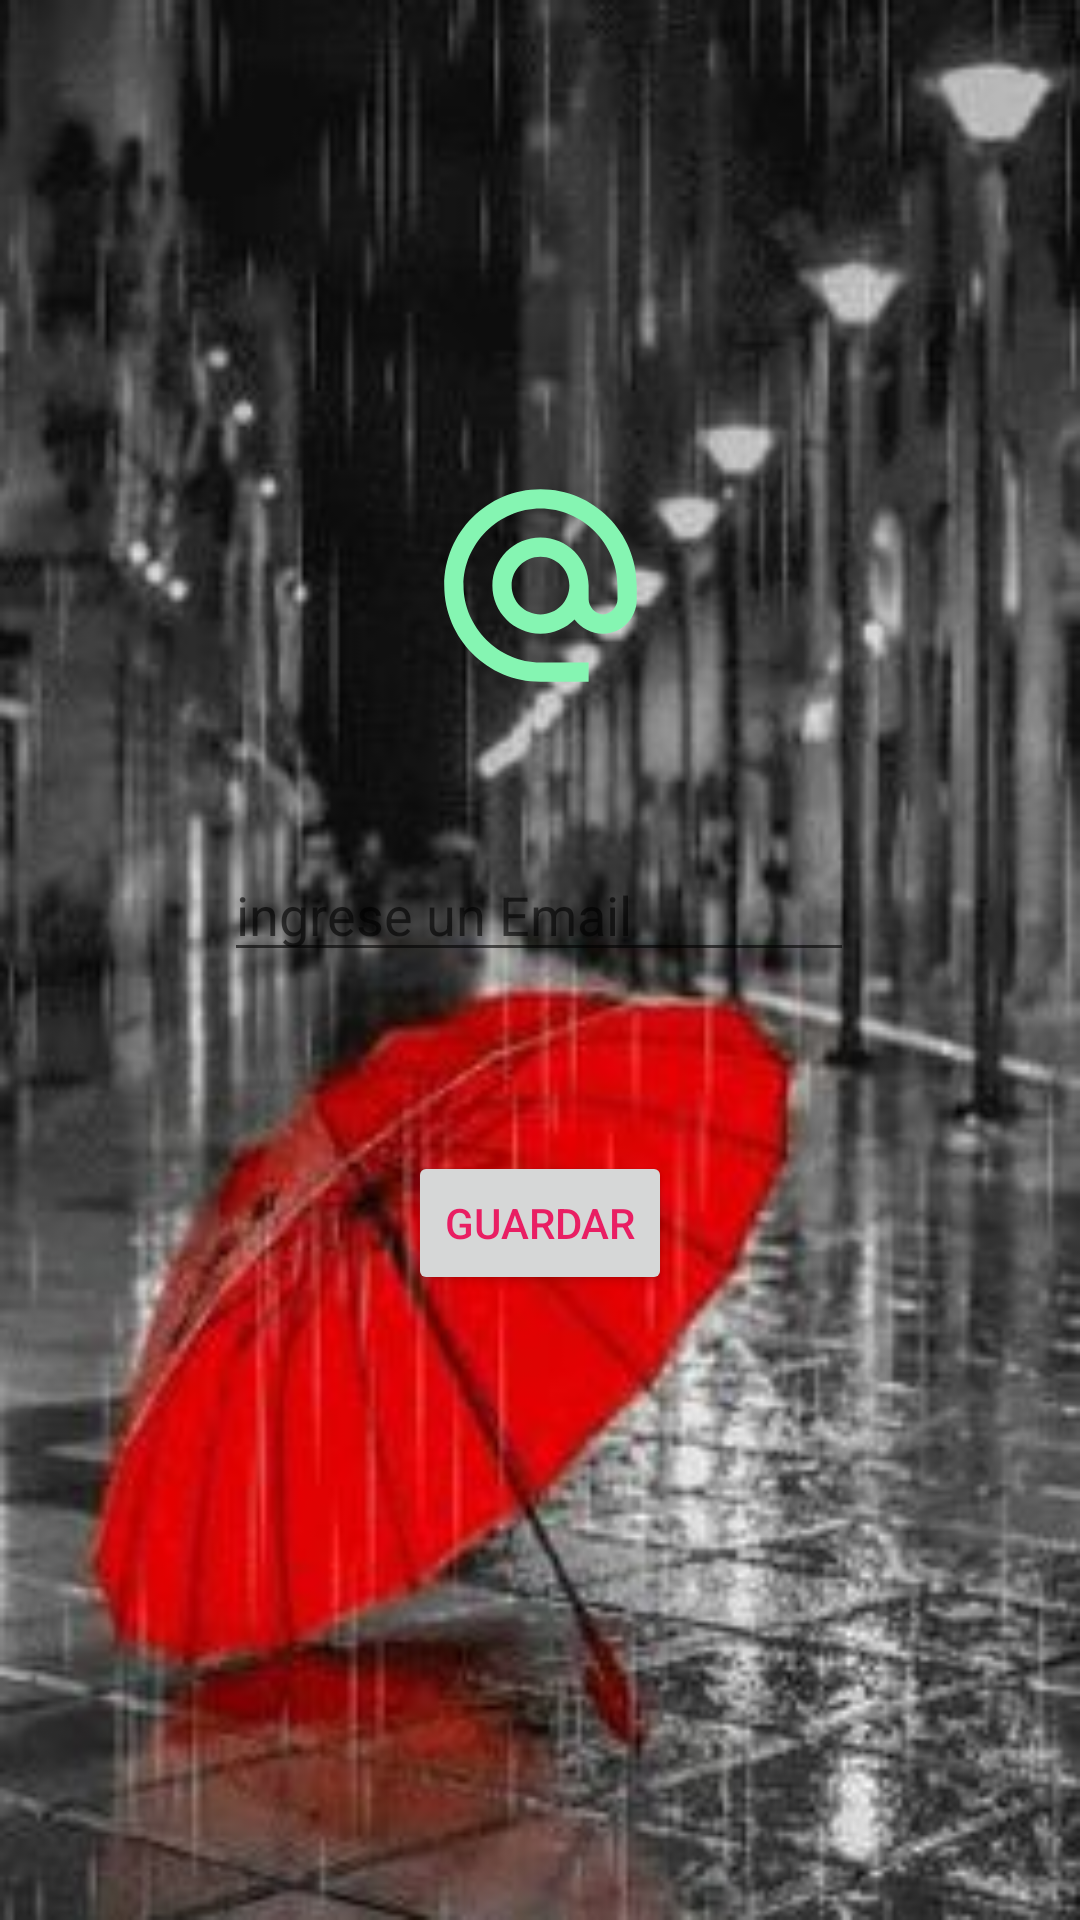

Screen size 1080px x 1920px. Icon name, then its center in pixels as [x,y]:
alternate email: [540,585]
